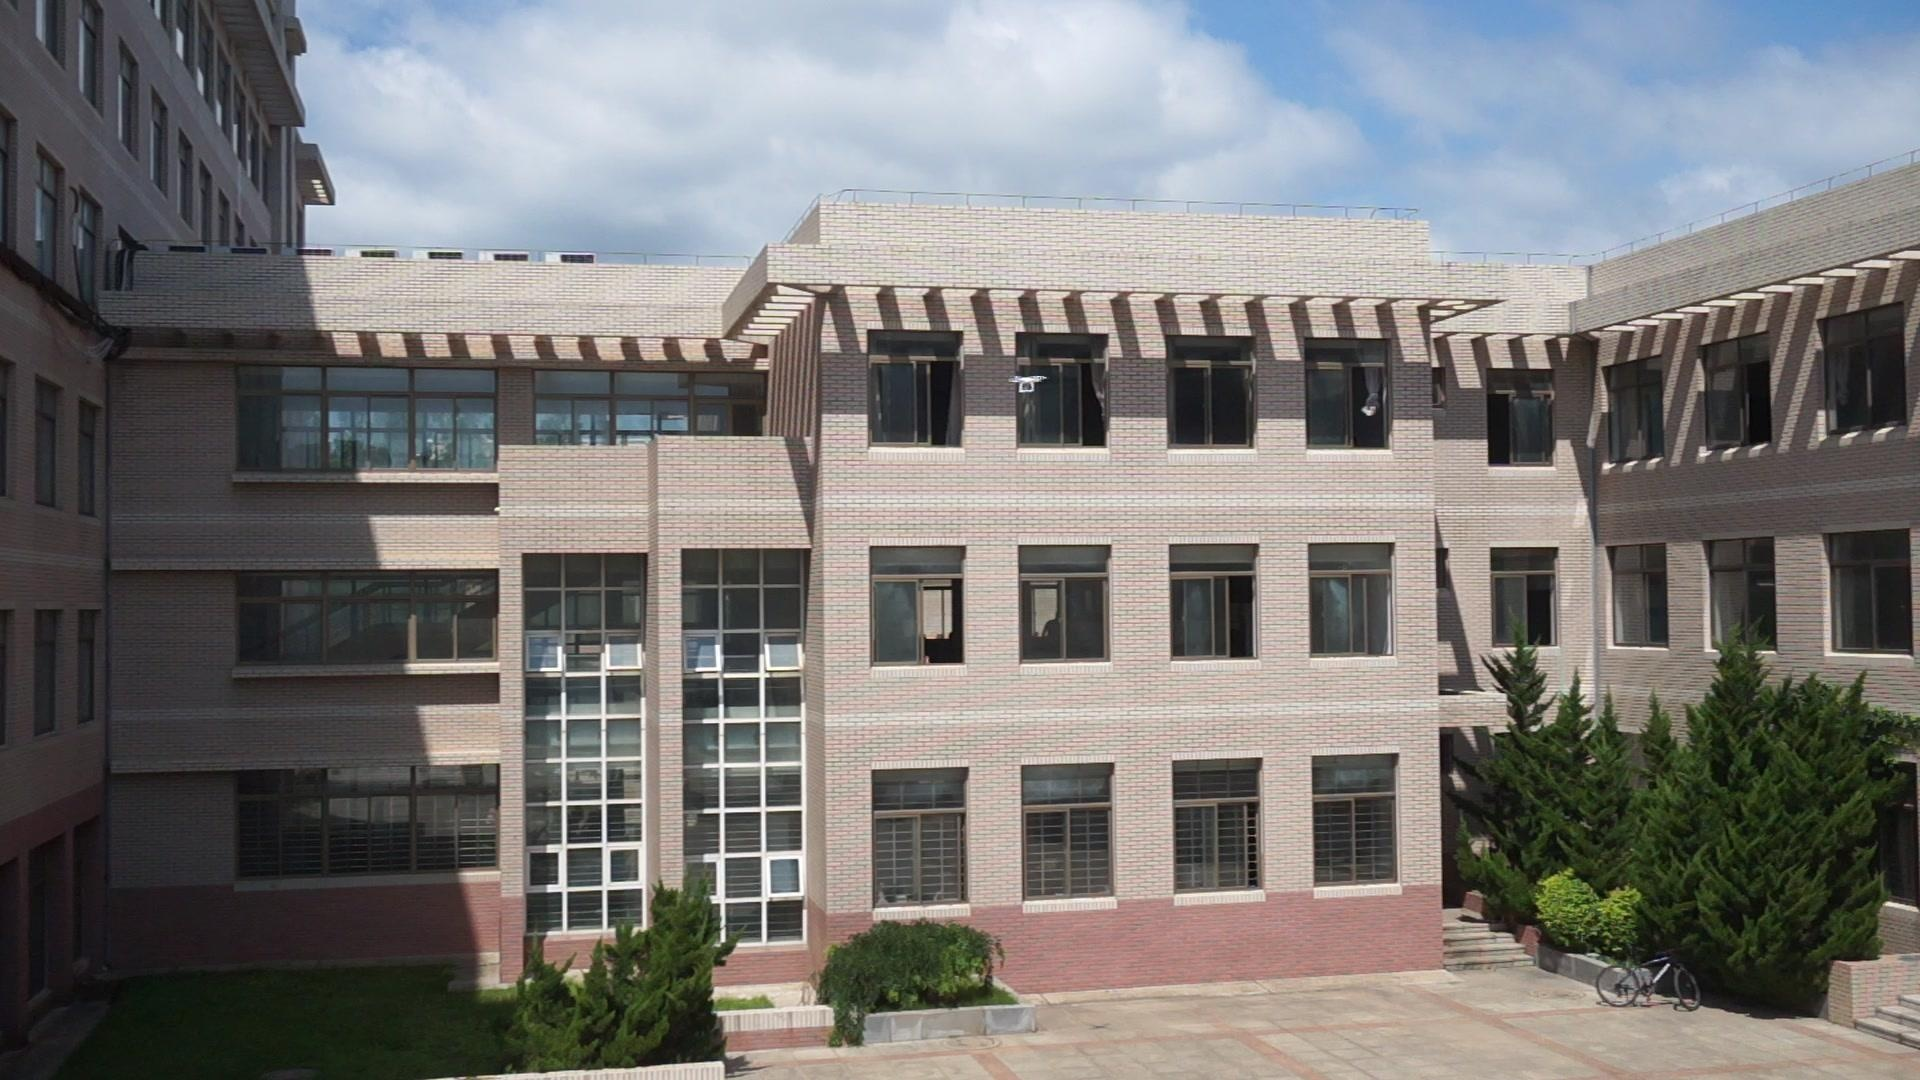UAV: (1009, 376, 1048, 394)
